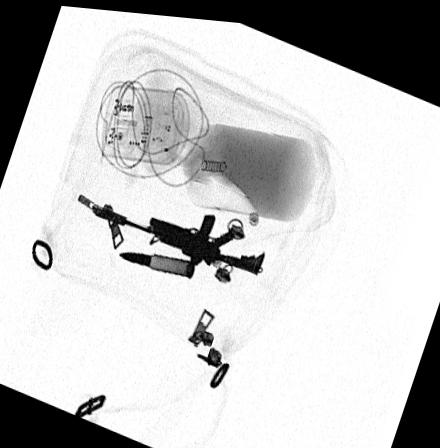Bullet: (117, 248, 196, 273)
Gun: (95, 203, 265, 270)
